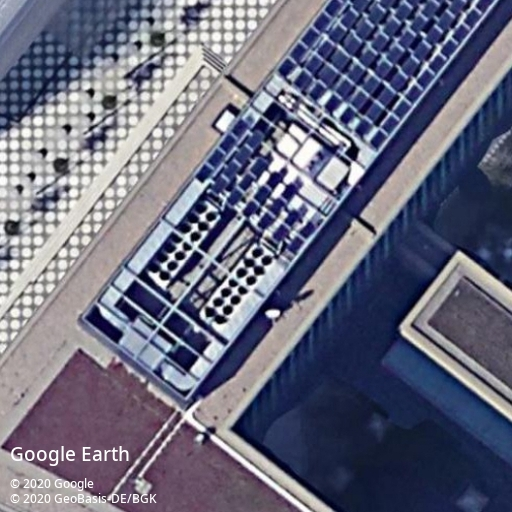Chiller: (199, 242, 278, 332), (144, 200, 222, 290)
